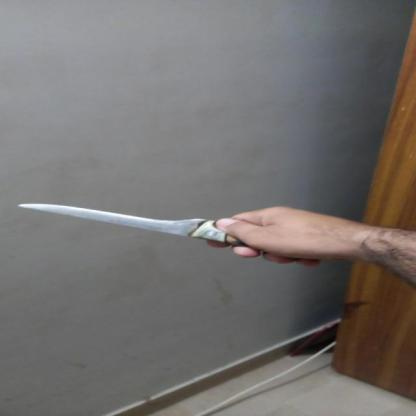Knife: (21, 204, 250, 245)
